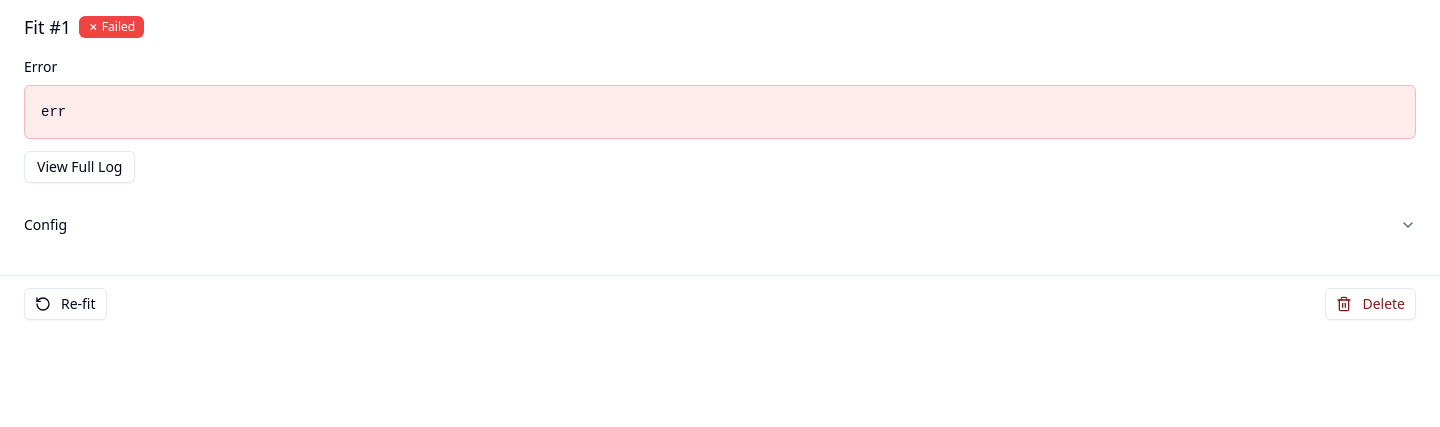
Test case: JobDetailPanel - ConfigTreeView rendering › expands Config accordion with array values via nested node
This screenshot has width=1440, height=427.
Click the button "Config". click: coordinates (46, 224)
box: [24,199,1416,251]
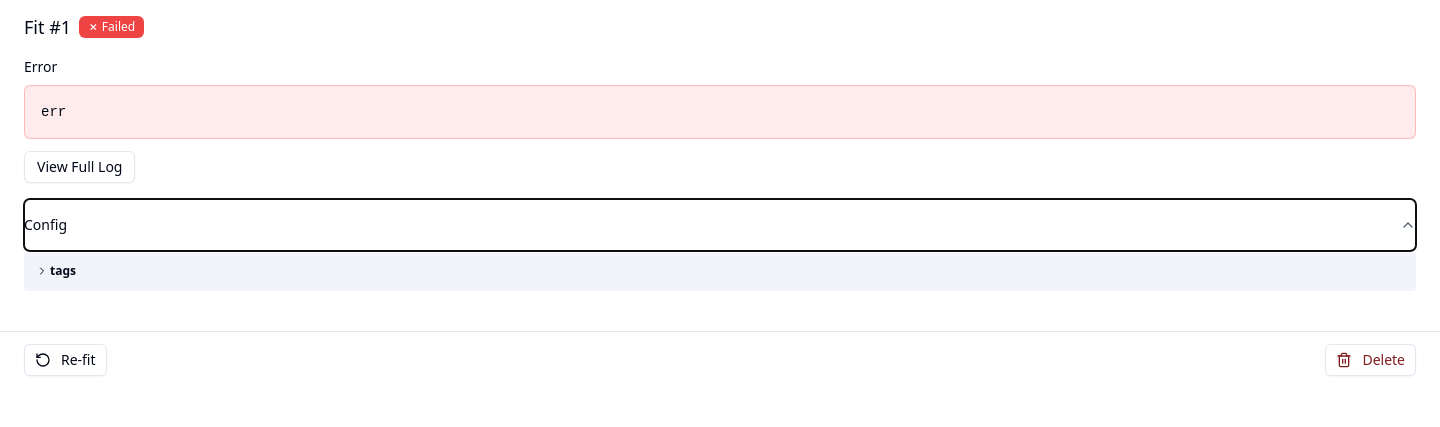
expect the text "tags" is shown: met, box [50,263,76,279]
// Click "tags" to expand the array
Click the button "tags". click: coordinates (56, 271)
box: [34,263,78,279]
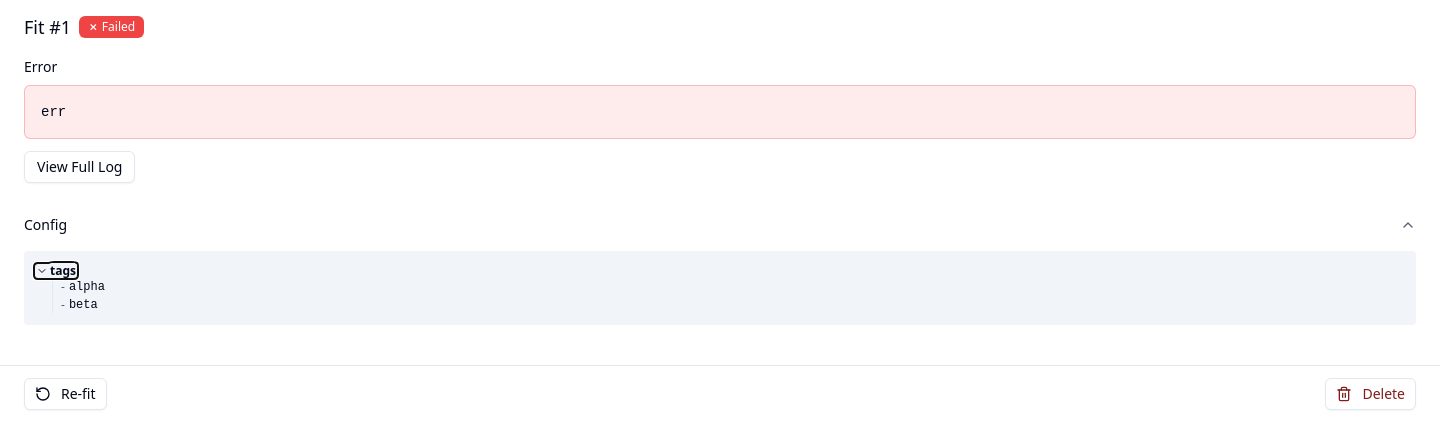
expect the text "alpha" is shown: met, box [69,279,105,295]
expect the text "beta" is shown: met, box [69,297,98,313]
